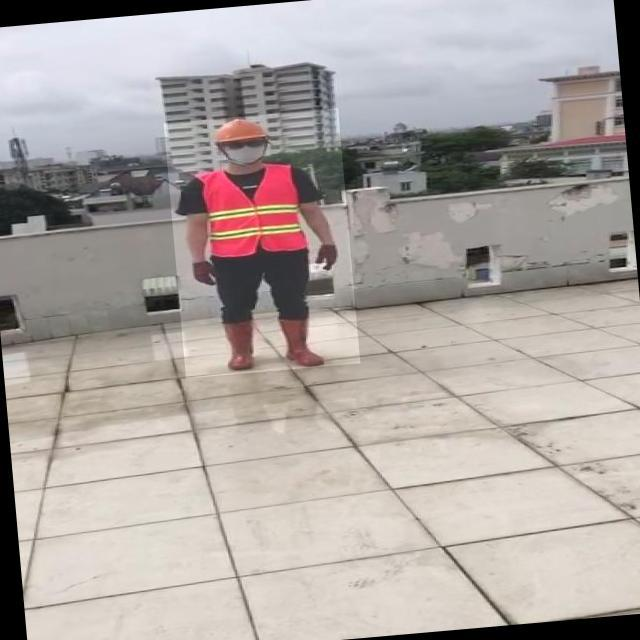Helmet: (163, 108, 360, 379), (202, 114, 270, 144)
Safety Boot: (276, 317, 322, 370), (219, 317, 261, 372)
Safety Vest: (198, 161, 307, 260)
